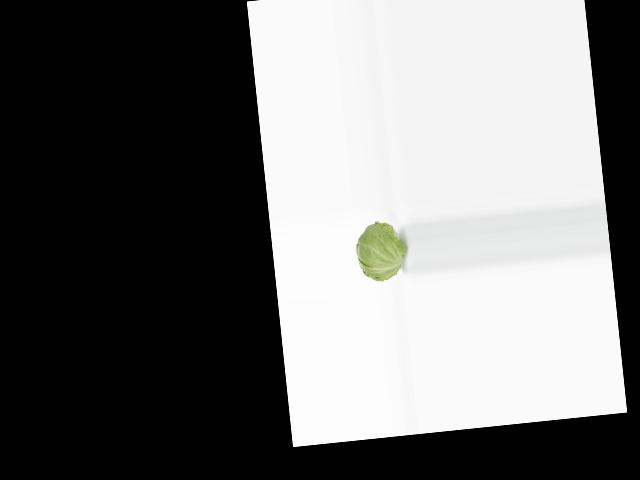lettuce: (352, 218, 403, 287)
